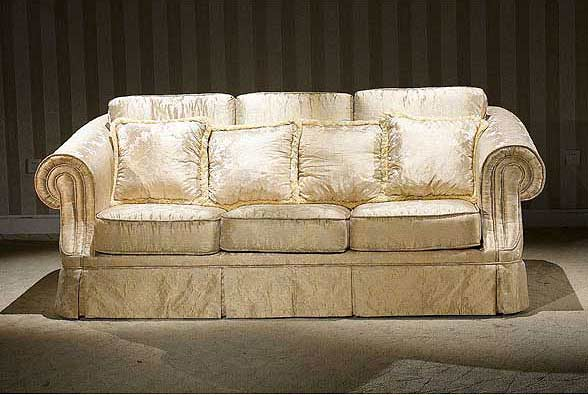chairs: (29, 88, 546, 322)
